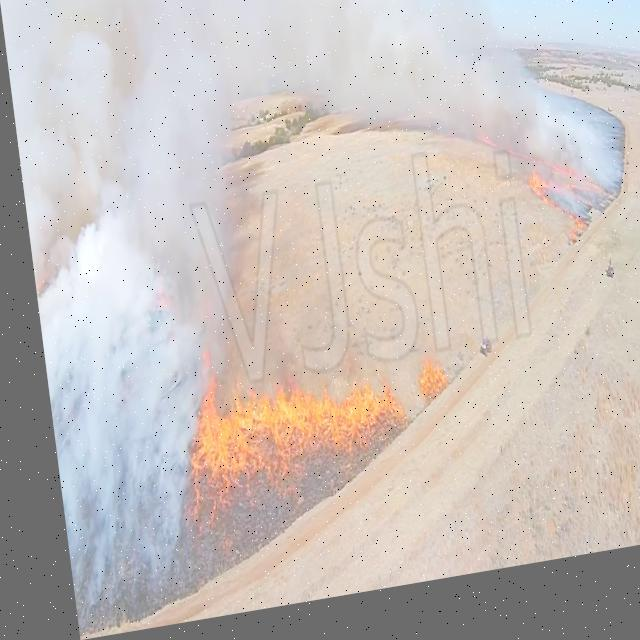Fire: (168, 340, 400, 518), (473, 128, 615, 276), (402, 361, 442, 425)
